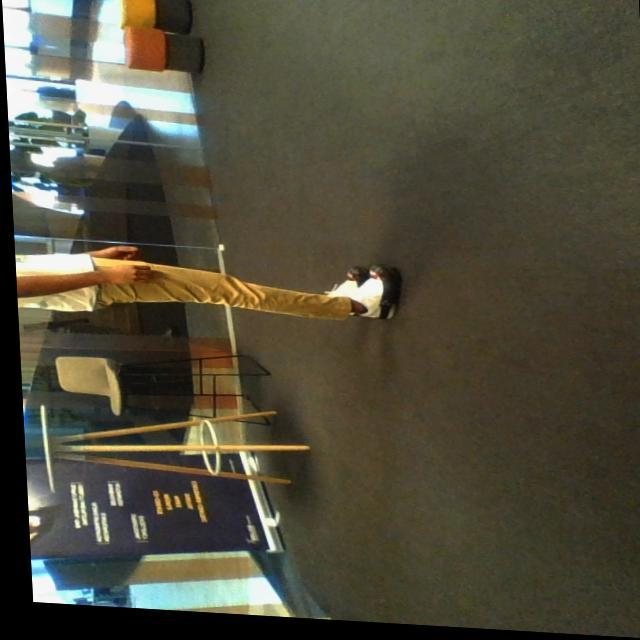shoes: (358, 257, 405, 325), (337, 249, 368, 312)
